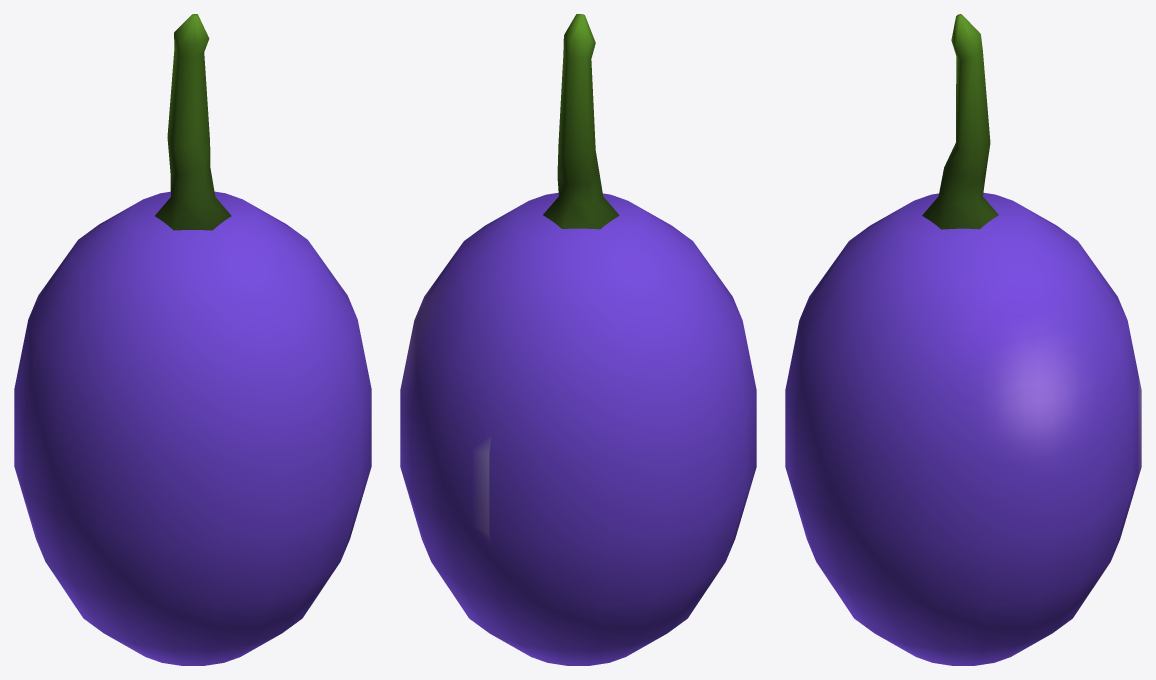
File: Grape_1.fbx
3 renders of one model, left to right at view 1: azimuth 30°, elevation 25°; view 2: azimuth 150°, elevation 25°; view 3: azimuth 270°, elevation 25°, orthographic.
Visible parts, largest first — view 1: Sphere; view 2: Sphere; view 3: Sphere.
Part boxes in pixels (left/top/right/bottom): Sphere: left=14, top=14, right=371, bottom=665; Sphere: left=400, top=14, right=756, bottom=665; Sphere: left=785, top=14, right=1141, bottom=665.
Bounding box in the file's own units: 13.13 × 26.34 × 13.33.
